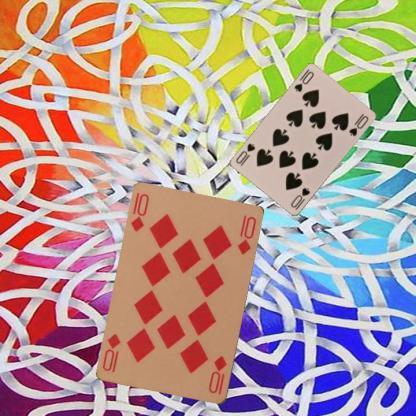10d: (128, 190, 151, 234), (206, 353, 228, 396)
10s: (288, 185, 312, 211), (292, 68, 315, 94)
